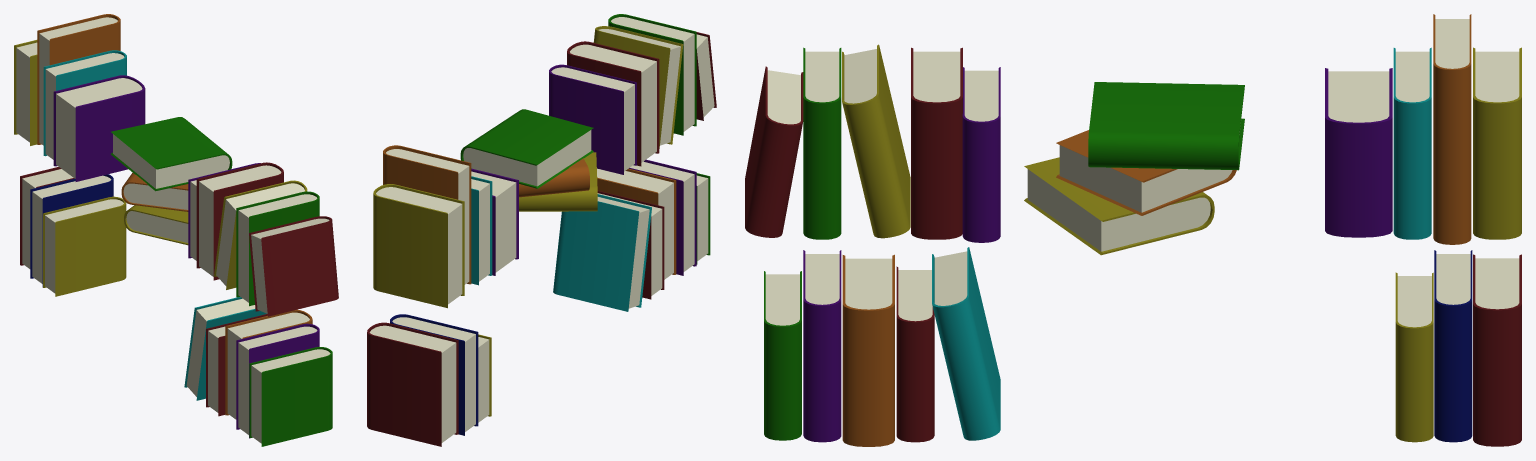
The model's file is books_shelve_02.glb.
3 views of the same model, side by side, from view 1: azimuth 30°, elevation 25°; view 2: azimuth 150°, elevation 25°; view 3: azimuth 270°, elevation 25° (orthographic). The views are drawn at different scales.
Visible parts, largest first — view 1: Cube.481; view 2: Cube.481; view 3: Cube.481.
Boxes of the visible parts, box(x1,y1,x2,y2) form: Cube.481: box(14, 14, 338, 446); Cube.481: box(367, 14, 716, 446); Cube.481: box(745, 14, 1521, 446).
Size of the model in its own units: 0.1977 by 0.4187 by 0.7793.
